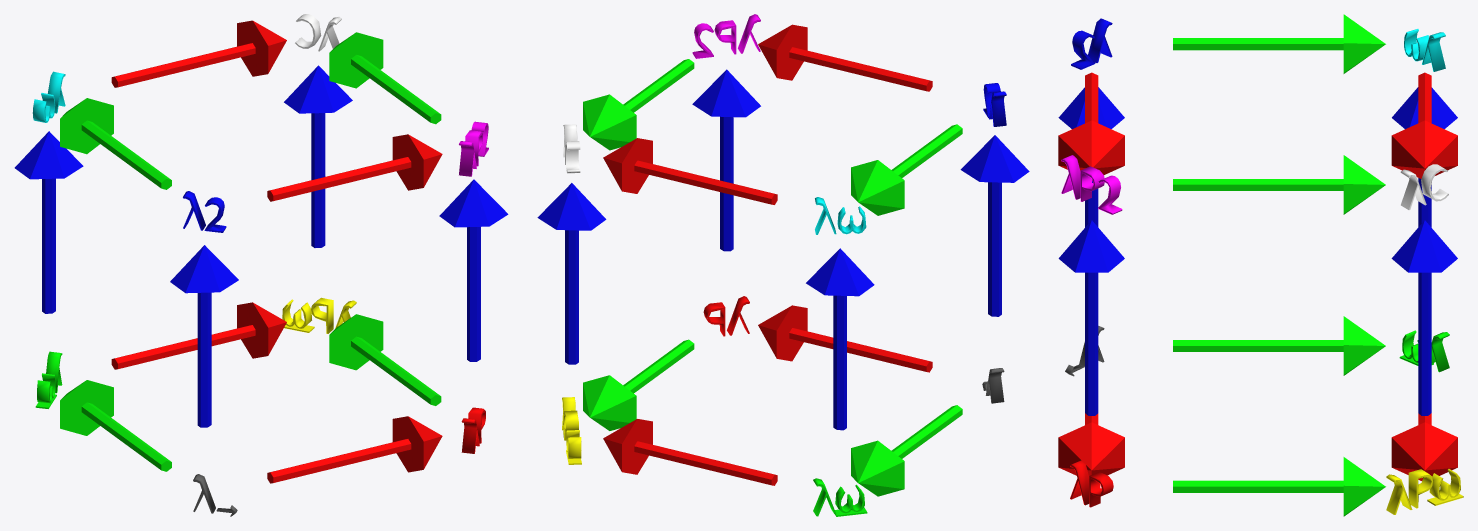
The model's file is lambdacube.obj.
The picture shows the model from 3 angles, left to right: view 1: azimuth 30°, elevation 25°; view 2: azimuth 150°, elevation 25°; view 3: azimuth 270°, elevation 25°; orthographic projection. The views are drawn at different scales.
Visible parts, largest first — view 1: Arrow.006_Cylinder.006, Arrow.007_Cylinder.007, Arrow.004_Cylinder.004, Arrow.005_Cylinder.005, Arrow.011_Cylinder.015, Arrow.003_Cylinder.003, Arrow.010_Cylinder.014, Arrow.001_Cylinder.001, Arrow.009_Cylinder.013, Arrow.008_Cylinder.012, Arrow_Cylinder, Arrow.002_Cylinder.002 (+7 smaller); view 2: Arrow.006_Cylinder.006, Arrow.005_Cylinder.005, Arrow.004_Cylinder.004, Arrow.007_Cylinder.007, Arrow.011_Cylinder.015, Arrow.002_Cylinder.002, Arrow.010_Cylinder.014, Arrow_Cylinder, Arrow.008_Cylinder.012, Arrow.001_Cylinder.001, Arrow.009_Cylinder.013, Arrow.003_Cylinder.003 (+7 smaller); view 3: Arrow.005_Cylinder.005, Arrow.007_Cylinder.007, Arrow.001_Cylinder.001, Arrow.008_Cylinder.012, Arrow.010_Cylinder.014, Arrow_Cylinder, Arrow.009_Cylinder.013, Arrow.011_Cylinder.015, Arrow.002_Cylinder.002, Arrow.003_Cylinder.003, Lambda-P_Bottom_Omega_Text.008, Lambda-P2_Text.007 (+7 smaller).
Boxes of the visible parts, <box> form: Arrow.006_Cylinder.006: <box>170,245,238,427</box>; Arrow.007_Cylinder.007: <box>439,179,508,361</box>; Arrow.004_Cylinder.004: <box>14,131,83,313</box>; Arrow.005_Cylinder.005: <box>284,65,352,247</box>; Arrow.011_Cylinder.015: <box>267,134,442,201</box>; Arrow.003_Cylinder.003: <box>267,416,442,483</box>; Arrow.010_Cylinder.014: <box>111,20,286,87</box>; Arrow.001_Cylinder.001: <box>329,314,441,405</box>; Arrow.009_Cylinder.013: <box>329,32,441,124</box>; Arrow.008_Cylinder.012: <box>60,98,171,189</box>; Arrow_Cylinder: <box>60,380,171,471</box>; Arrow.002_Cylinder.002: <box>111,302,286,369</box>; Arrow.006_Cylinder.006: <box>960,135,1029,316</box>; Arrow.005_Cylinder.005: <box>537,183,606,364</box>; Arrow.004_Cylinder.004: <box>806,248,874,430</box>; Arrow.007_Cylinder.007: <box>692,69,760,251</box>; Arrow.011_Cylinder.015: <box>758,24,932,91</box>; Arrow.002_Cylinder.002: <box>603,419,777,485</box>; Arrow.010_Cylinder.014: <box>603,138,777,204</box>; Arrow_Cylinder: <box>851,405,962,496</box>; Arrow.008_Cylinder.012: <box>851,124,962,215</box>; Arrow.001_Cylinder.001: <box>583,339,694,430</box>; Arrow.009_Cylinder.013: <box>583,59,694,150</box>; Arrow.003_Cylinder.003: <box>758,305,932,372</box>; Arrow.005_Cylinder.005: <box>1391,220,1457,415</box>; Arrow.007_Cylinder.007: <box>1058,220,1124,415</box>; Arrow.001_Cylinder.001: <box>1173,457,1385,516</box>; Arrow.008_Cylinder.012: <box>1173,14,1385,73</box>; Arrow.010_Cylinder.014: <box>1391,72,1457,178</box>; Arrow_Cylinder: <box>1173,316,1385,375</box>; Arrow.009_Cylinder.013: <box>1173,155,1385,214</box>; Arrow.011_Cylinder.015: <box>1058,72,1124,180</box>; Arrow.002_Cylinder.002: <box>1391,413,1457,480</box>; Arrow.003_Cylinder.003: <box>1058,413,1124,476</box>; Lambda-P_Bottom_Omega_Text.008: <box>1386,469,1463,514</box>; Lambda-P2_Text.007: <box>1061,155,1122,214</box>.
Bounding box in the file's own units: 6 × 6 × 6.08.
